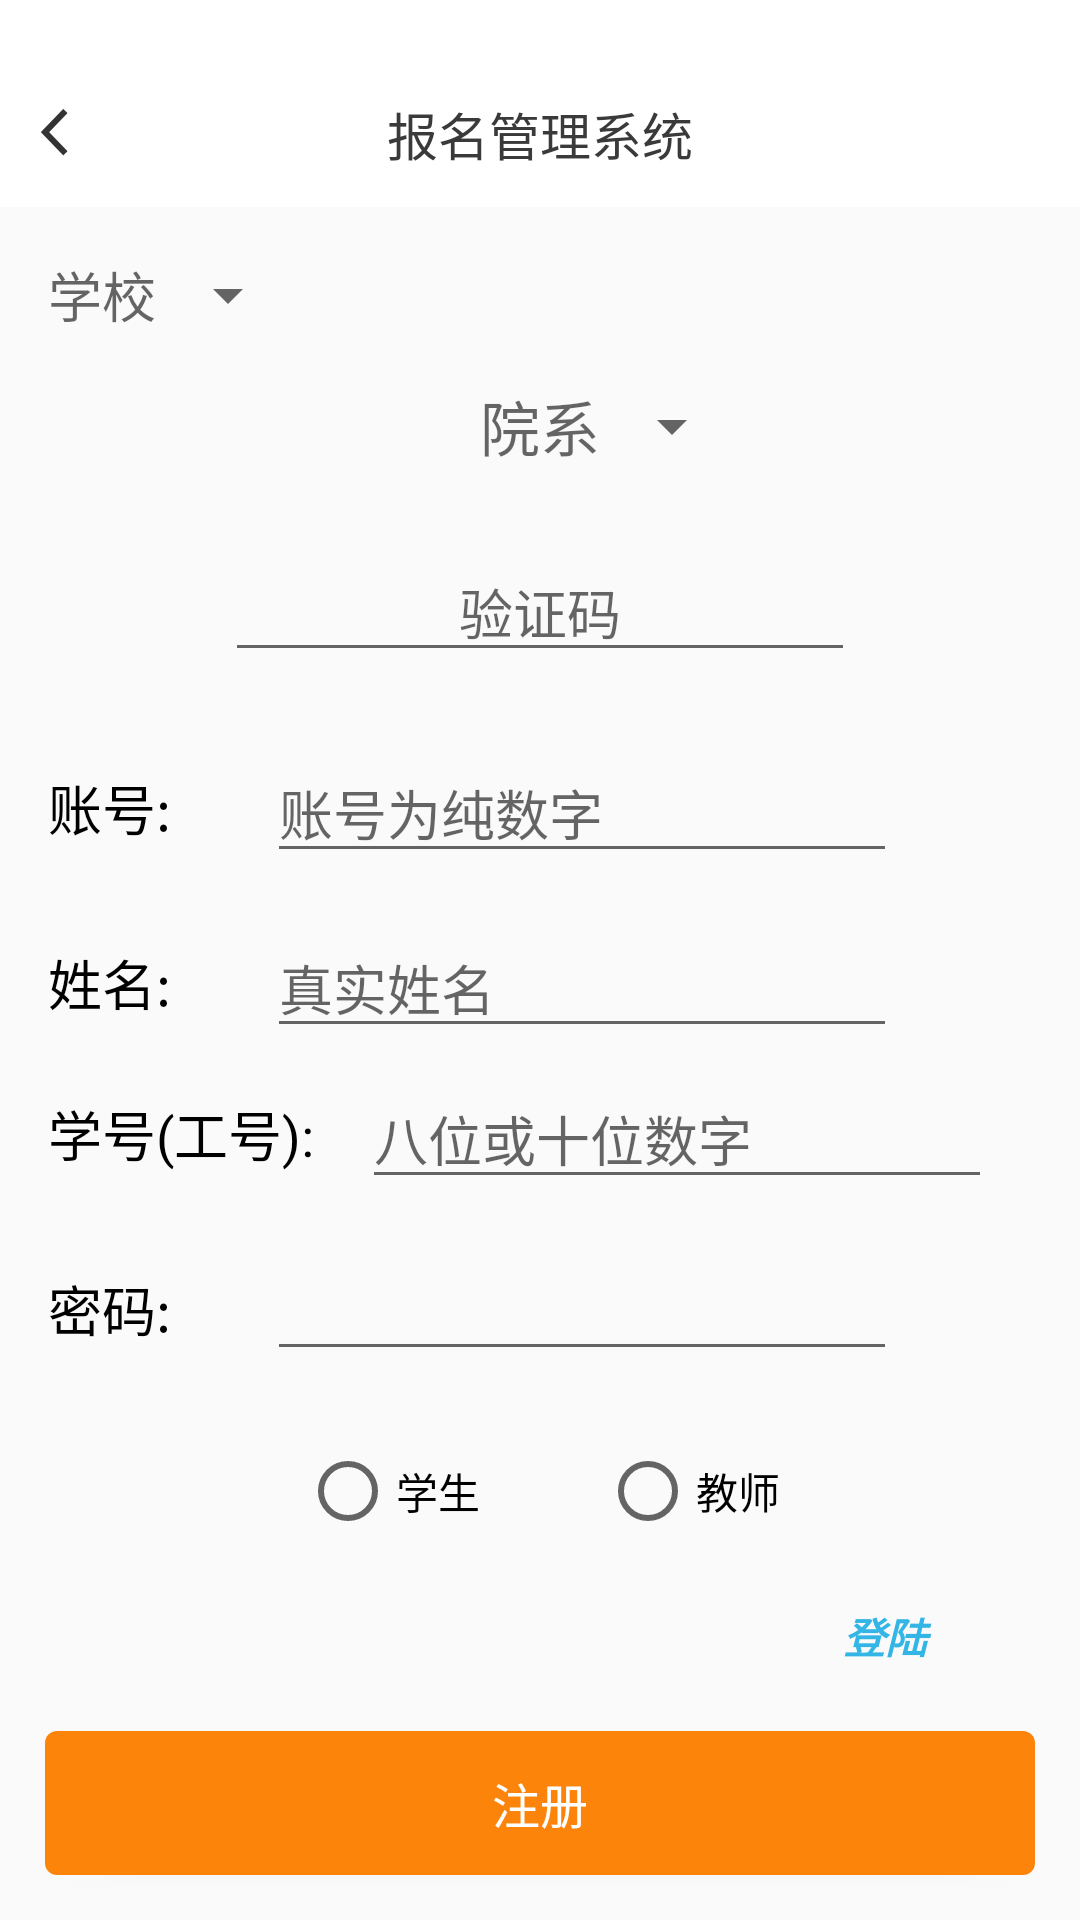

Named icons in this screenshot (1080×1920) and their bounding boxes, Rect(x1, y1, x2, y2):
back: Rect(41, 109, 68, 156)
